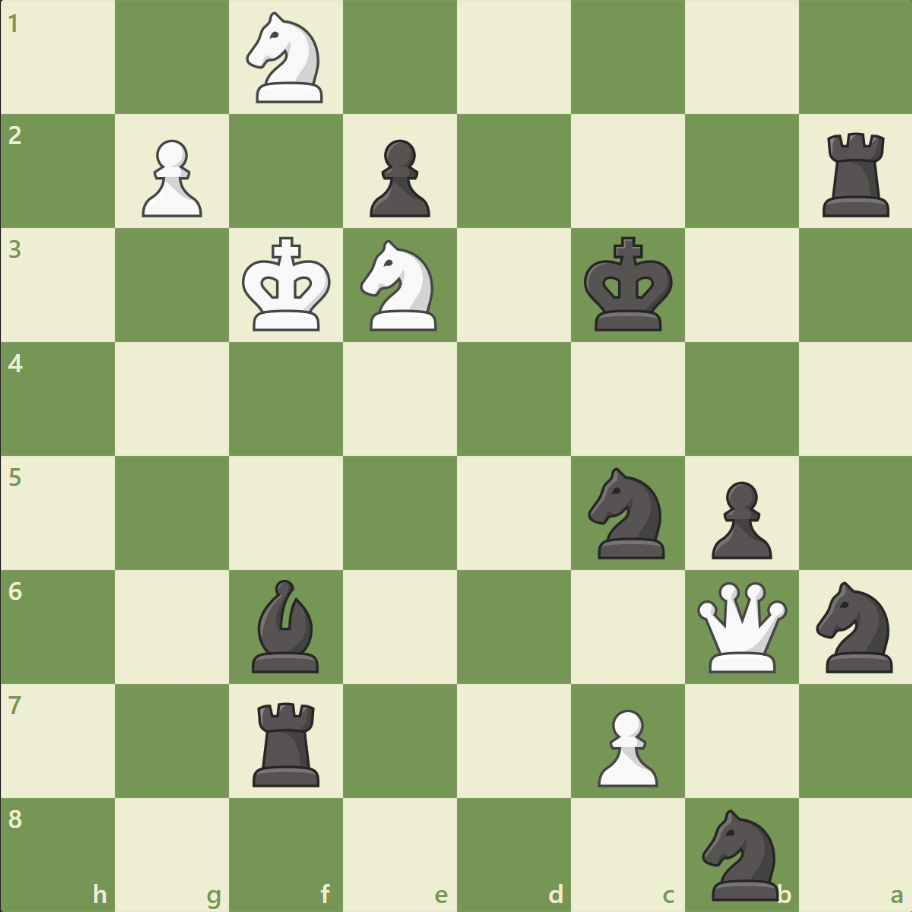K: (238, 231, 338, 339)
N: (351, 234, 449, 337), (238, 7, 335, 110)
P: (133, 132, 208, 223), (588, 700, 662, 791)
Q: (691, 576, 790, 676)
b: (244, 574, 328, 676)
k: (579, 231, 679, 339)
n: (579, 461, 676, 564), (692, 802, 789, 904), (806, 575, 903, 677)
p: (701, 473, 776, 564), (361, 132, 435, 223)
r: (246, 693, 329, 790), (814, 125, 897, 222)
